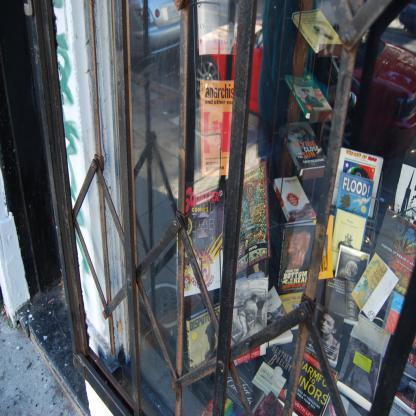book: (188, 147, 415, 415), (226, 154, 271, 278), (182, 182, 222, 297), (228, 268, 268, 370), (199, 77, 235, 176), (279, 219, 314, 300), (286, 116, 332, 176), (288, 5, 342, 55), (270, 170, 320, 221), (184, 304, 219, 375), (288, 70, 332, 124), (268, 282, 294, 352), (282, 300, 298, 338)
